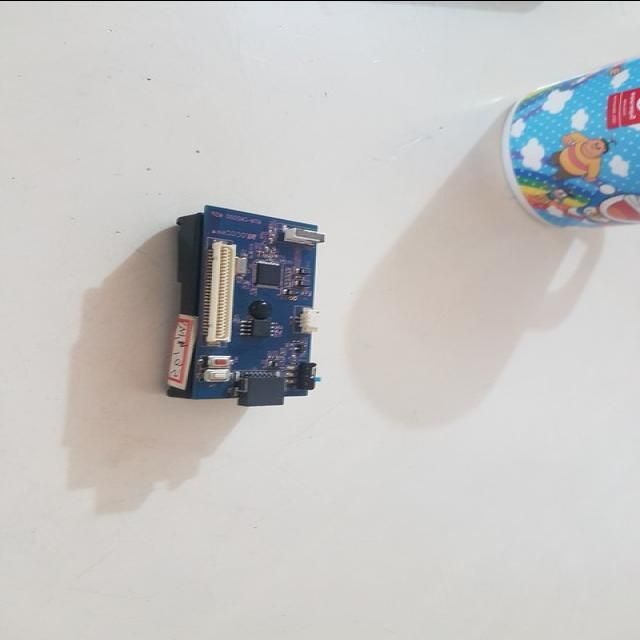TelosB: (168, 206, 326, 407)
